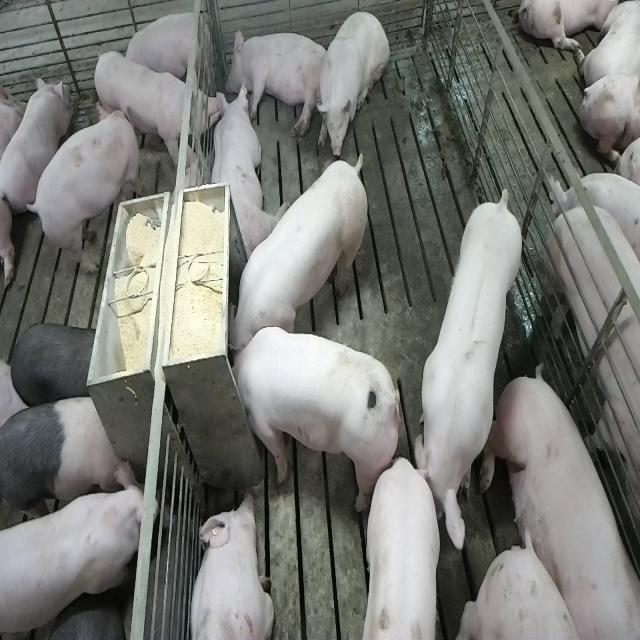Feeding: (222, 326, 396, 514), (230, 144, 374, 356)
Lateral_lying: (224, 26, 330, 138)
Sitting: (316, 6, 390, 160)
Standing: (541, 196, 640, 640), (416, 192, 524, 544), (2, 473, 148, 640), (27, 107, 141, 277), (1, 393, 126, 518), (92, 51, 220, 172), (354, 458, 437, 640)
Sternal_lying: (186, 490, 274, 640), (208, 83, 280, 265), (2, 74, 70, 220), (124, 8, 210, 92)
